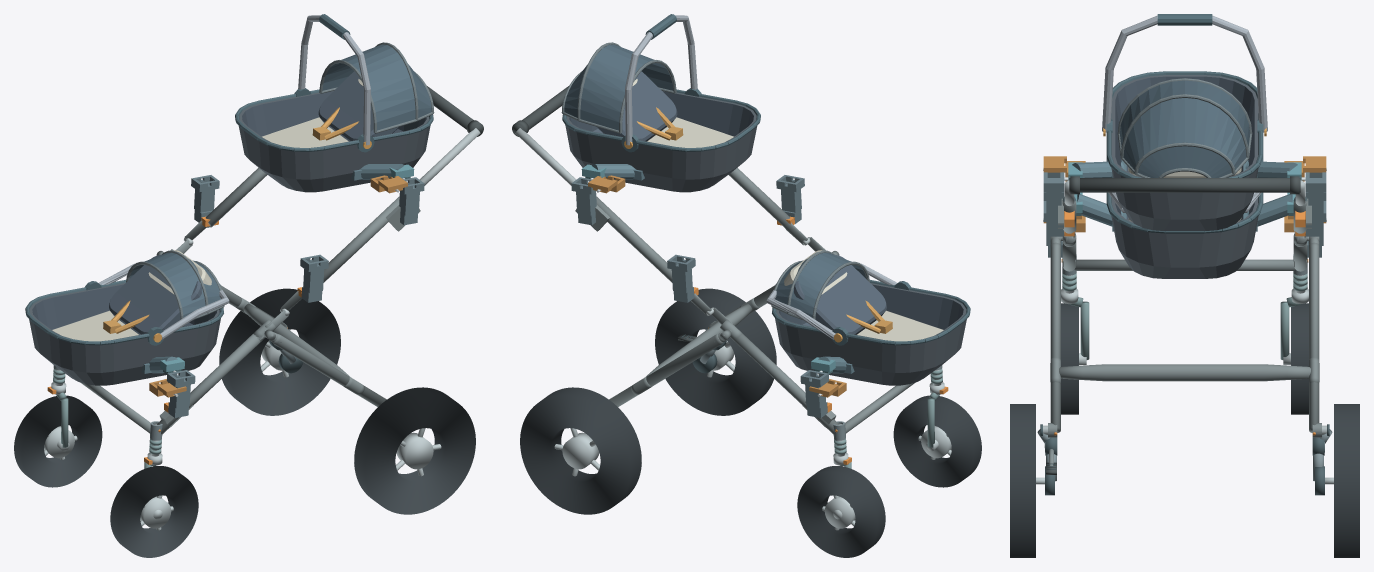
Rendered from D04_w650_state1_wheel_L.glb.
The picture shows the model from 3 angles, left to right: view 1: azimuth 30°, elevation 25°; view 2: azimuth 150°, elevation 25°; view 3: azimuth 270°, elevation 25°; orthographic projection. The views are drawn at different scales.
Visible parts, largest first — view 1: D04_Upper, D04_Lower, RL_tire.008, RR_tire.008, FL_tire.008, FR_tire.008, V46_rear_leg_-1.009, main_lower_-1.009, main_upper_-1.009, Universal_Cabin_Receiver_M_-1, RL_sealed_hub.008, Universal_Cabin_Receiver_M_1 (+10 smaller); view 2: D04_Upper, D04_Lower, RR_tire.008, RL_tire.008, FR_tire.008, FL_tire.008, V46_rear_leg_1.009, main_lower_1.009, main_upper_1.009, Universal_Cabin_Receiver_M_1, RR_sealed_hub.008, Universal_Cabin_Receiver_M_-1 (+10 smaller); view 3: D04_Upper, D04_Lower, V46_rearbar.009, RL_tire.008, RR_tire.008, round_handle.008, FL_tire.008, FR_tire.008, V46_rear_leg_1.009, V46_rear_leg_-1.009, D04_Lower_Mount_L, D04_Upper_Mount_H (+7 smaller).
Boxes of the visible parts, left/top/right/bottom form: D04_Upper: left=235, top=14, right=434, bottom=192; D04_Lower: left=25, top=250, right=229, bottom=385; RL_tire.008: left=354, top=387, right=475, bottom=514; RR_tire.008: left=219, top=288, right=340, bottom=415; FL_tire.008: left=110, top=466, right=198, bottom=557; FR_tire.008: left=14, top=395, right=102, bottom=487; V46_rear_leg_-1.009: left=272, top=334, right=386, bottom=406; main_lower_-1.009: left=157, top=334, right=264, bottom=434; main_upper_-1.009: left=323, top=196, right=399, bottom=282; Universal_Cabin_Receiver_M_-1: left=300, top=254, right=328, bottom=302; RL_sealed_hub.008: left=396, top=432, right=433, bottom=469; Universal_Cabin_Receiver_M_1: left=191, top=175, right=219, bottom=222; D04_Upper: left=561, top=14, right=760, bottom=192; D04_Lower: left=766, top=250, right=970, bottom=385; RR_tire.008: left=520, top=387, right=641, bottom=514; RL_tire.008: left=655, top=288, right=776, bottom=415; FR_tire.008: left=797, top=466, right=885, bottom=557; FL_tire.008: left=893, top=395, right=981, bottom=487; V46_rear_leg_1.009: left=609, top=334, right=723, bottom=406; main_lower_1.009: left=731, top=334, right=838, bottom=434; main_upper_1.009: left=596, top=196, right=672, bottom=282; Universal_Cabin_Receiver_M_1: left=667, top=254, right=695, bottom=302; RR_sealed_hub.008: left=562, top=432, right=599, bottom=469; Universal_Cabin_Receiver_M_-1: left=776, top=175, right=804, bottom=223; D04_Upper: left=1102, top=14, right=1267, bottom=230; D04_Lower: left=1106, top=157, right=1263, bottom=278; V46_rearbar.009: left=1059, top=364, right=1310, bottom=381; RL_tire.008: left=1010, top=404, right=1035, bottom=557; RR_tire.008: left=1334, top=404, right=1359, bottom=557; round_handle.008: left=1069, top=178, right=1300, bottom=192; FL_tire.008: left=1061, top=303, right=1078, bottom=414; FR_tire.008: left=1291, top=303, right=1308, bottom=414; V46_rear_leg_1.009: left=1309, top=242, right=1319, bottom=432; V46_rear_leg_-1.009: left=1050, top=242, right=1060, bottom=432; D04_Lower_Mount_L: left=1074, top=192, right=1295, bottom=231; D04_Upper_Mount_H: left=1064, top=160, right=1305, bottom=180.
Bounding box in the file's own units: 1.28 × 1.36 × 0.8171.
